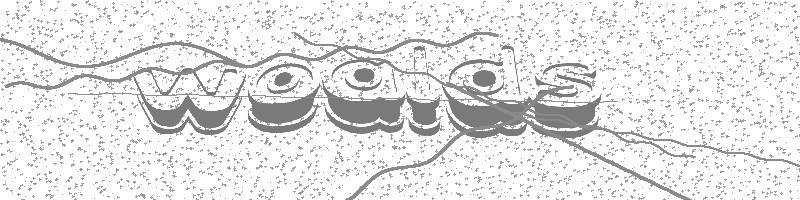a: (321, 56, 406, 137)
d: (444, 44, 536, 144)
l: (401, 44, 445, 139)
o: (247, 63, 324, 134)
s: (533, 62, 603, 137)
w: (120, 66, 247, 135)
